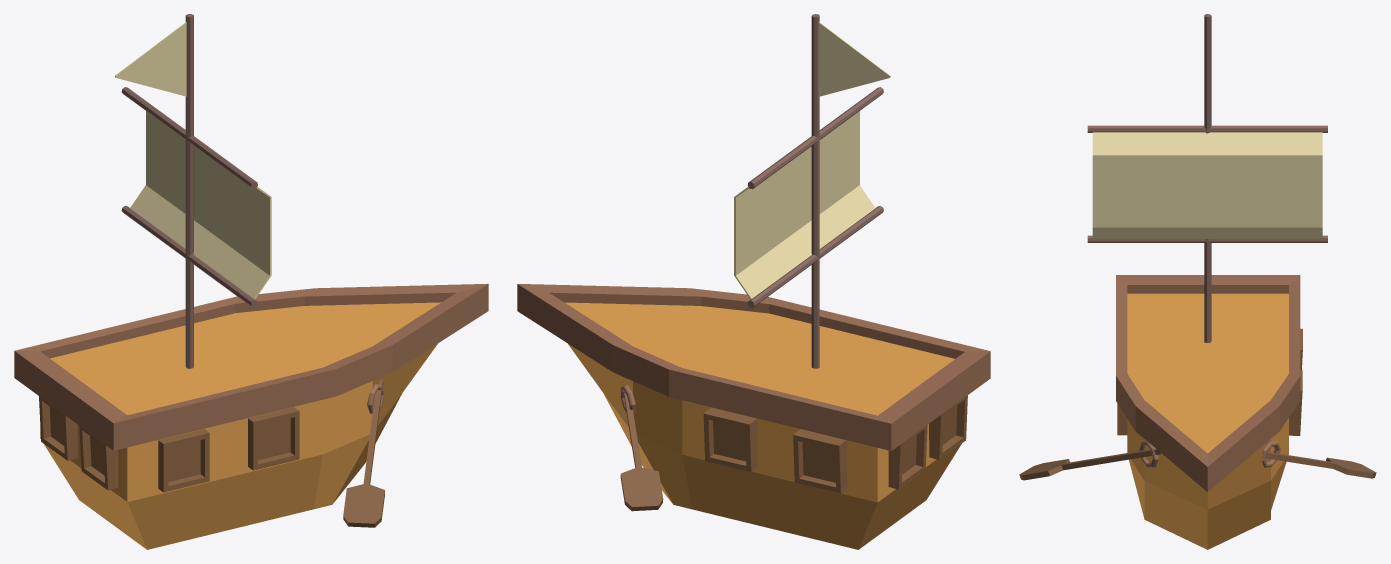
The model's file is Ship.fbx.
3 views of the same model, side by side, from view 1: azimuth 30°, elevation 25°; view 2: azimuth 150°, elevation 25°; view 3: azimuth 270°, elevation 25° (orthographic). The views are drawn at different scales.
Visible parts, largest first — view 1: Cube, Cube.001, Cube.004, Cylinder, Cube.002; view 2: Cube, Cube.001, Cube.004, Cylinder, Cube.002; view 3: Cube, Cube.001, Cylinder, Cube.002, Cube.004, Torus.001.
Part boxes in pixels (x1=…): Cube: x1=14, y1=283, x2=488, y2=549; Cube.001: x1=115, y1=22, x2=271, y2=299; Cube.004: x1=39, y1=396, x2=299, y2=492; Cylinder: x1=121, y1=14, x2=257, y2=368; Cube.002: x1=343, y1=379, x2=384, y2=527; Cube: x1=517, y1=284, x2=990, y2=549; Cube.001: x1=734, y1=22, x2=890, y2=299; Cube.004: x1=703, y1=395, x2=967, y2=493; Cylinder: x1=747, y1=14, x2=883, y2=368; Cube.002: x1=620, y1=393, x2=663, y2=511; Cube: x1=1116, y1=275, x2=1300, y2=549; Cube.001: x1=1092, y1=132, x2=1322, y2=239; Cylinder: x1=1087, y1=14, x2=1327, y2=342; Cube.002: x1=1019, y1=449, x2=1376, y2=480; Cube.004: x1=1117, y1=328, x2=1302, y2=435; Torus.001: x1=1139, y1=440, x2=1280, y2=467.
Bounding box in the file's own units: 719 × 831 × 566.
